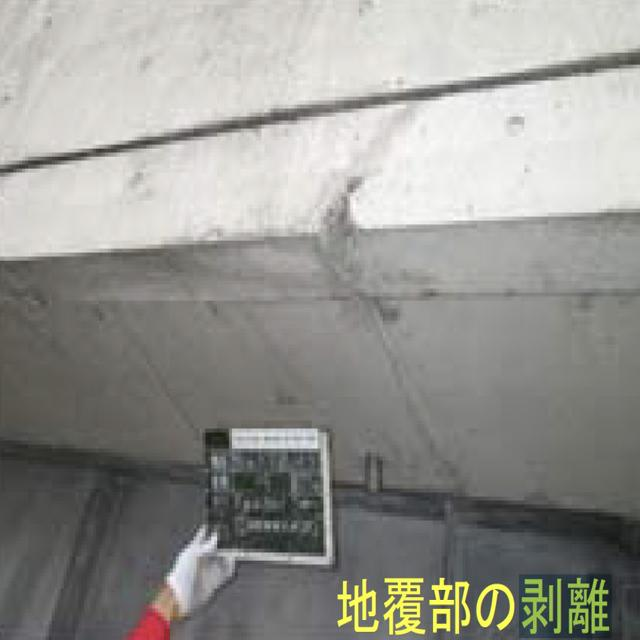spalling: (310, 173, 379, 301)
